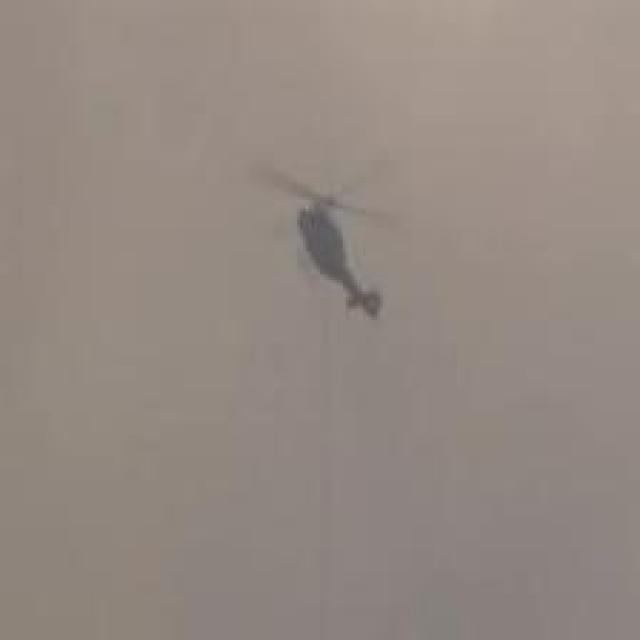other: (454, 19, 602, 157)
